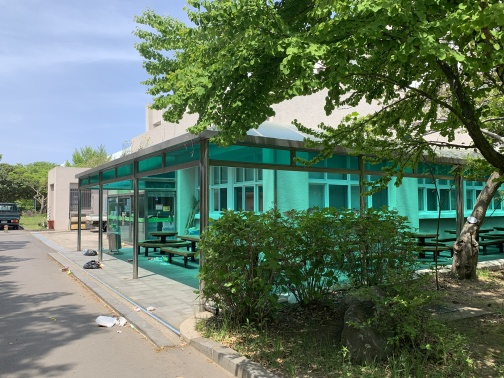Ara Hall: (65, 116, 502, 297)
